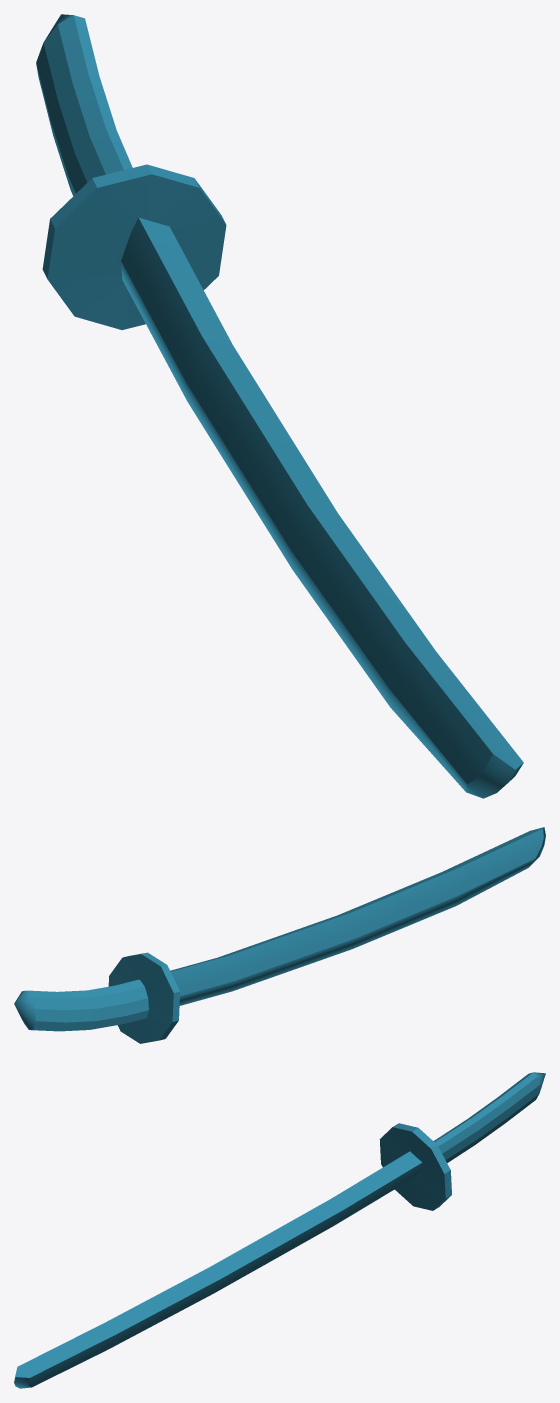
The model's file is Katana .fbx.
3 views of the same model, one above another, from view 1: azimuth 30°, elevation 25°; view 2: azimuth 150°, elevation 25°; view 3: azimuth 330°, elevation 25° (orthographic). The views are drawn at different scales.
Visible parts, largest first — view 1: pasted__KATANA2; view 2: pasted__KATANA2; view 3: pasted__KATANA2.
Boxes of the visible parts, x1=… form: pasted__KATANA2: x1=36, y1=14, x2=523, y2=798; pasted__KATANA2: x1=14, y1=827, x2=545, y2=1043; pasted__KATANA2: x1=14, y1=1072, x2=545, y2=1388.
Bounding box in the file's own units: 2.05 × 1.17 × 8.24.
